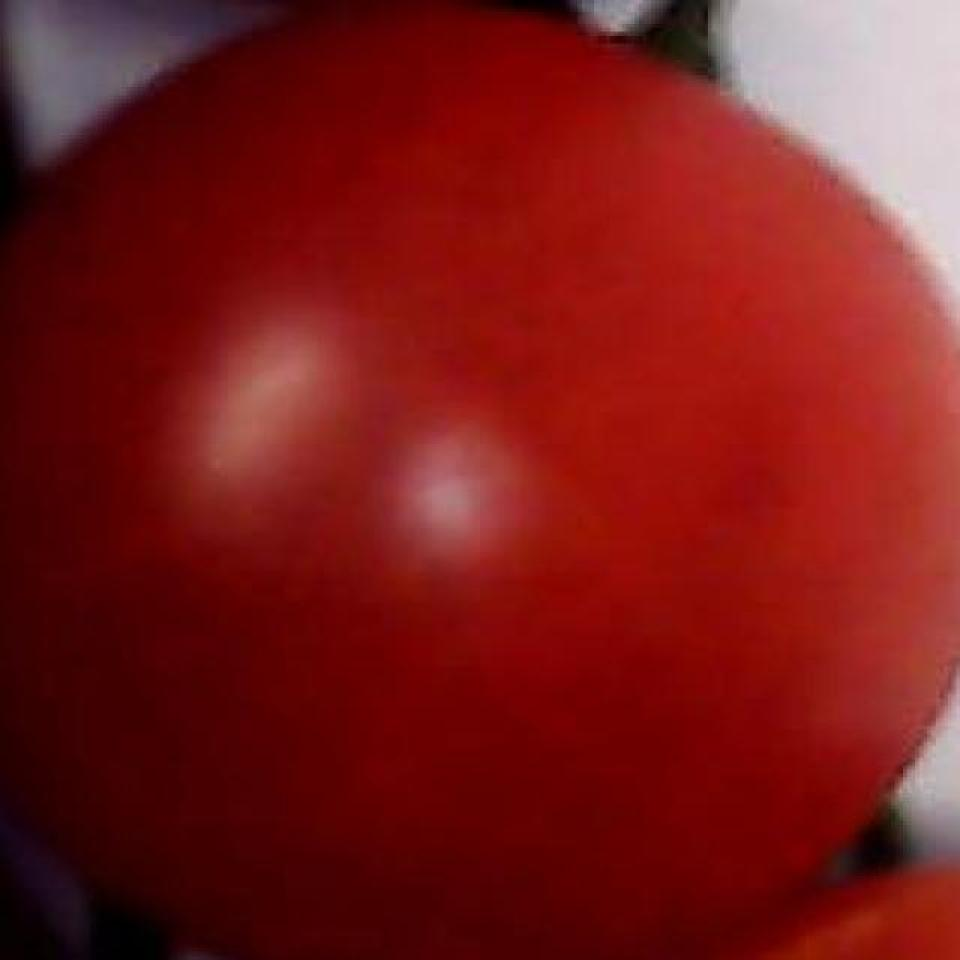Healthy: (26, 0, 960, 929)
